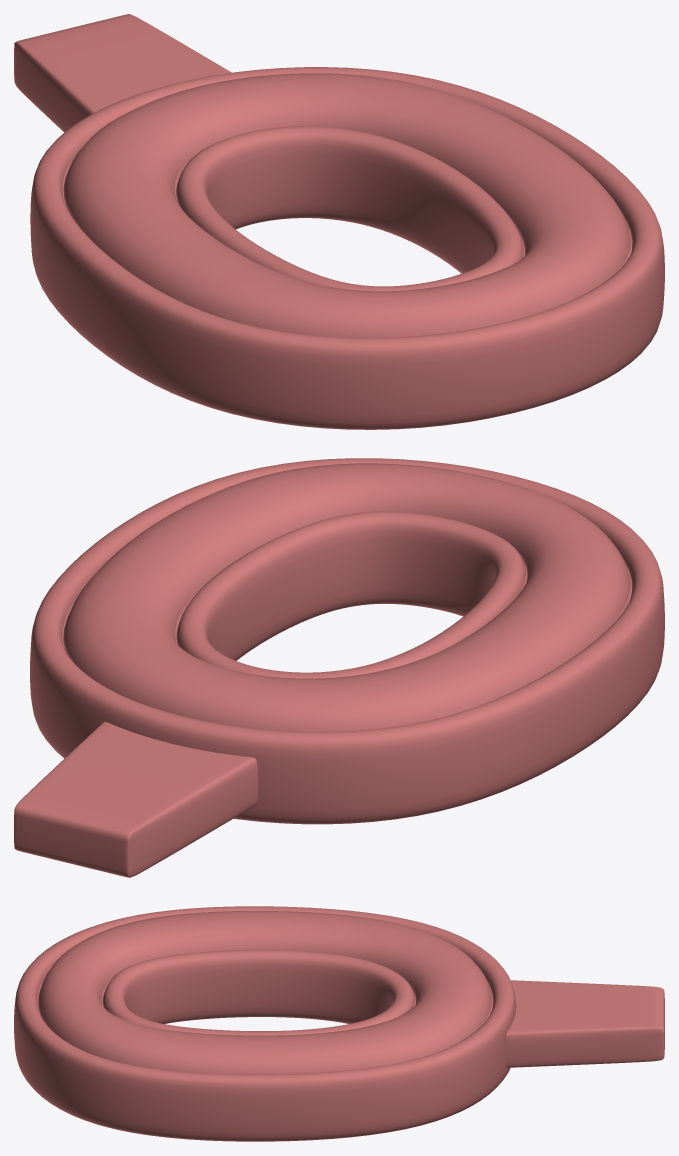
3 views of the same model, one above another, from view 1: azimuth 30°, elevation 25°; view 2: azimuth 150°, elevation 25°; view 3: azimuth 270°, elevation 25° (orthographic). The views are drawn at different scales.
Parts seen in each view (by area): view 1: _Number_0_v1; view 2: _Number_0_v1; view 3: _Number_0_v1.
Part boxes in pixels (x1=…): _Number_0_v1: x1=14, y1=14, x2=664, y2=429; _Number_0_v1: x1=14, y1=458, x2=664, y2=877; _Number_0_v1: x1=14, y1=906, x2=664, y2=1141.
Size of the model in its own units: 8.51 by 1.95 by 13.08.
